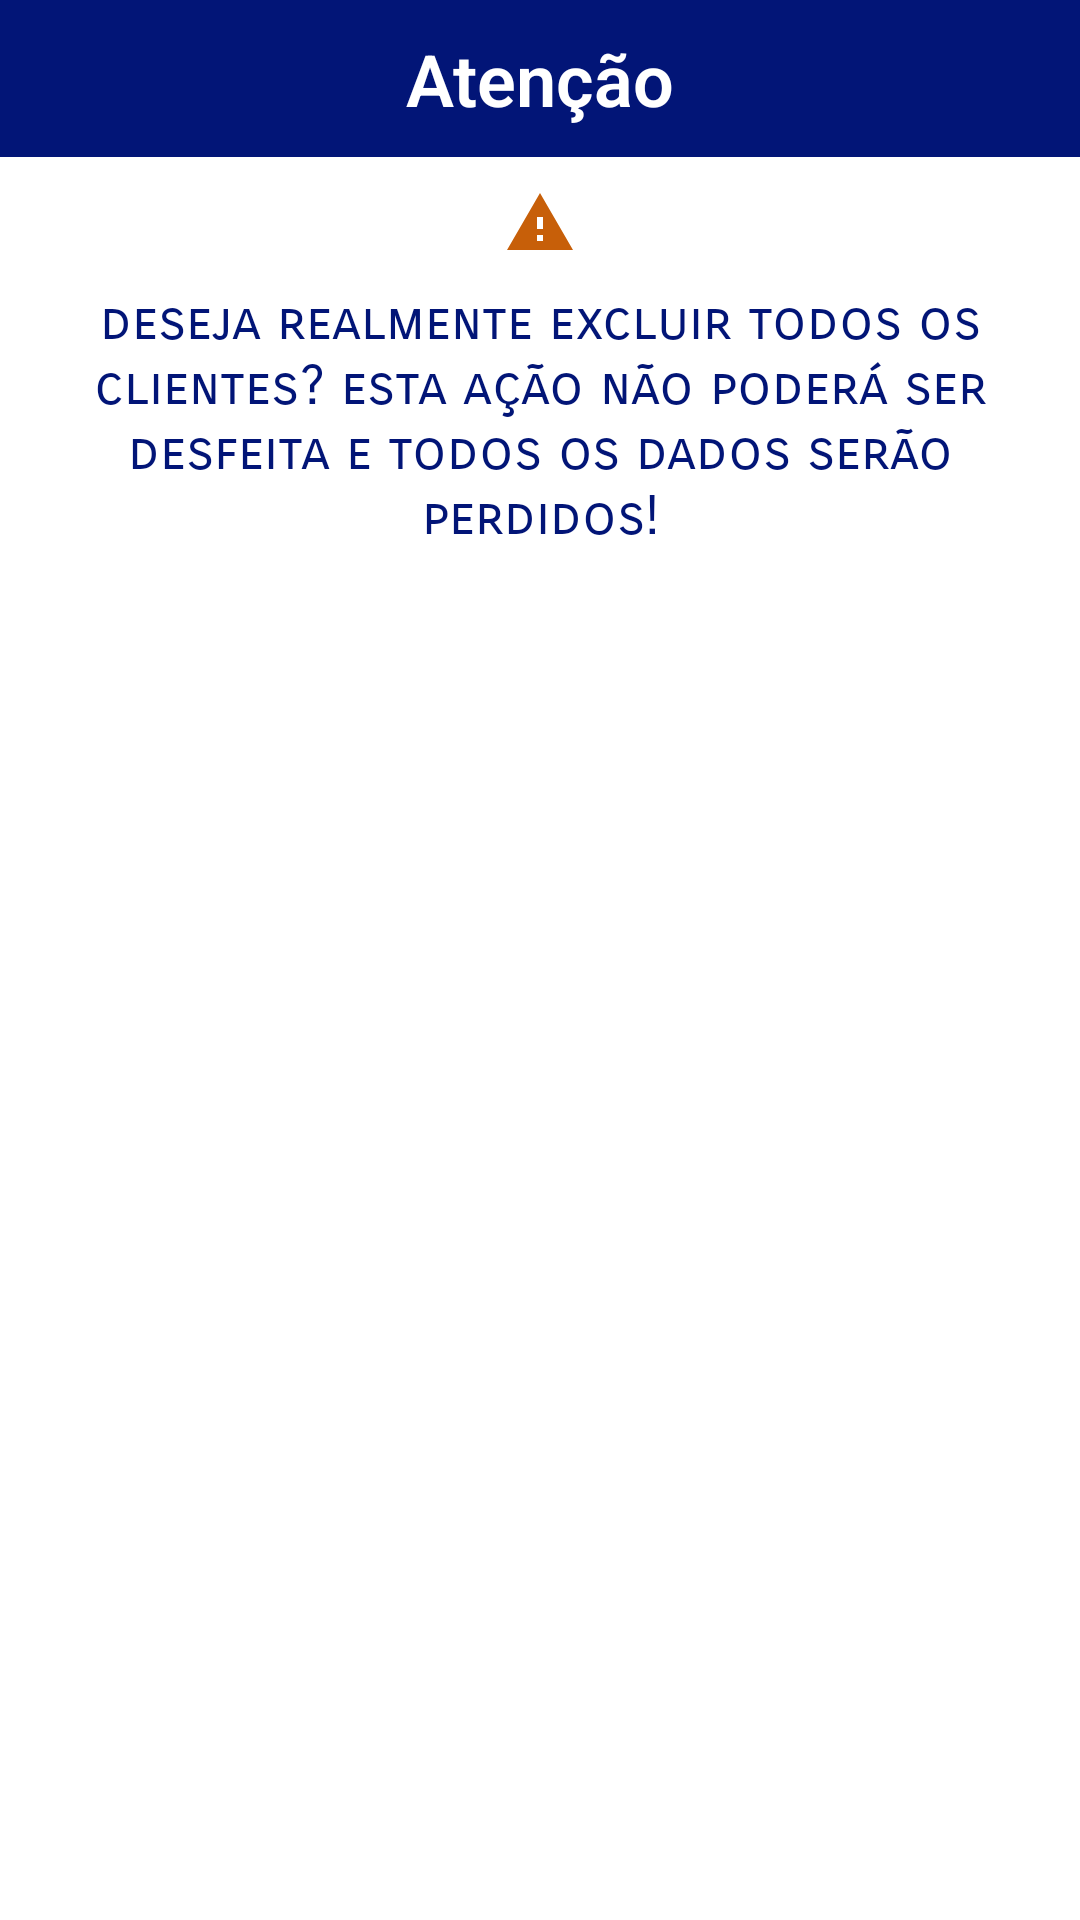

Where to tap for icons on this 1080 × 1920 app screen, as [x,y]:
warning: [540,221]
